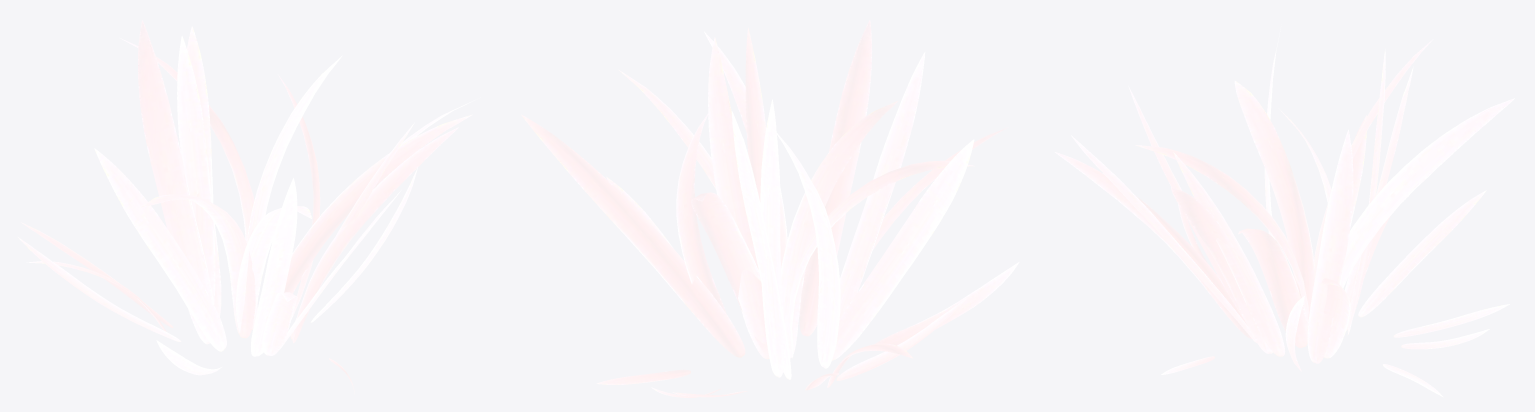
3 views of the same model, side by side, from view 1: azimuth 30°, elevation 25°; view 2: azimuth 150°, elevation 25°; view 3: azimuth 270°, elevation 25° (orthographic). The views are drawn at different scales.
Parts seen in each view (by area): view 1: SM_WT_SwampGrass_01_LOD0; view 2: SM_WT_SwampGrass_01_LOD0; view 3: SM_WT_SwampGrass_01_LOD0.
Part boxes in pixels (box(x1,y1,x2,y2)): SM_WT_SwampGrass_01_LOD0: box(18, 20, 480, 393); SM_WT_SwampGrass_01_LOD0: box(521, 20, 1019, 397); SM_WT_SwampGrass_01_LOD0: box(1055, 26, 1514, 397).
Size of the model in its own units: 1.19 by 0.7586 by 1.06.
Materials: 1 (1 with a texture image).
